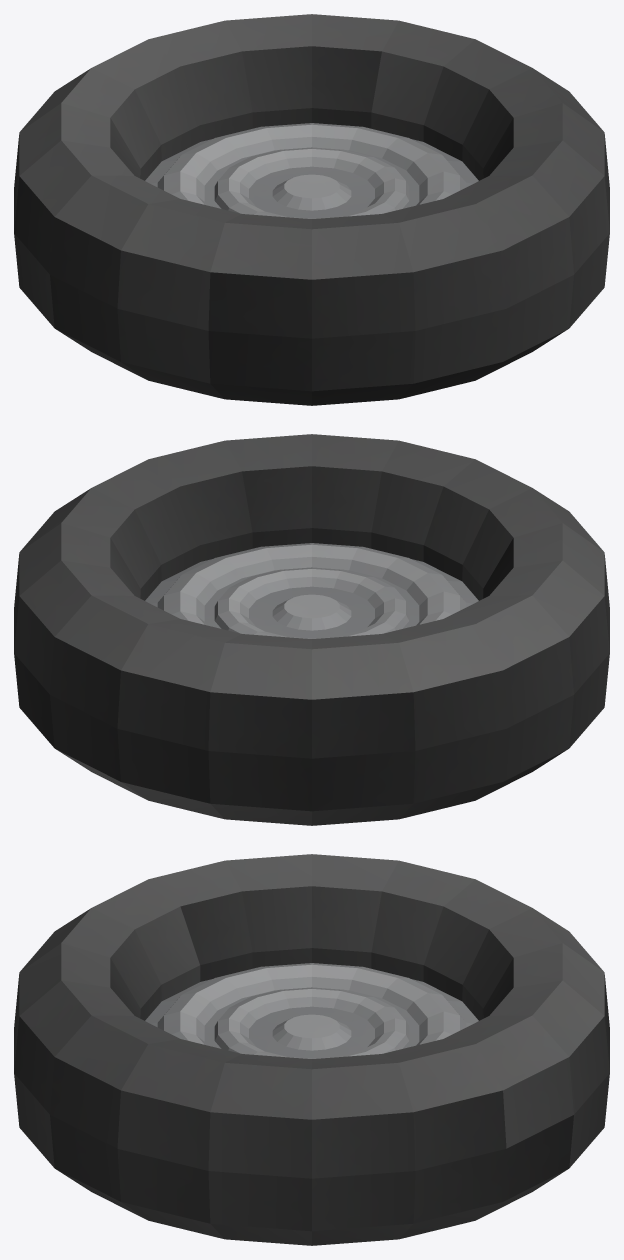
File: wheel.dae
The picture shows the model from 3 angles, top to bottom: view 1: azimuth 30°, elevation 25°; view 2: azimuth 150°, elevation 25°; view 3: azimuth 270°, elevation 25°; orthographic projection.
Visible parts, largest first — view 1: wheel; view 2: wheel; view 3: wheel.
Part boxes in pixels (left/top/right/bottom): wheel: left=14, top=14, right=609, bottom=405; wheel: left=14, top=434, right=609, bottom=825; wheel: left=14, top=854, right=609, bottom=1245.
Size of the model in its own units: 0.8214 by 0.8089 by 0.2645.
